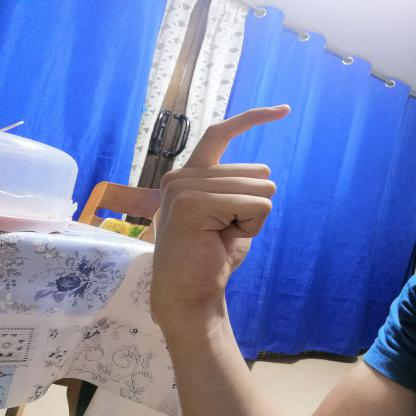RAA: (142, 92, 303, 318)
